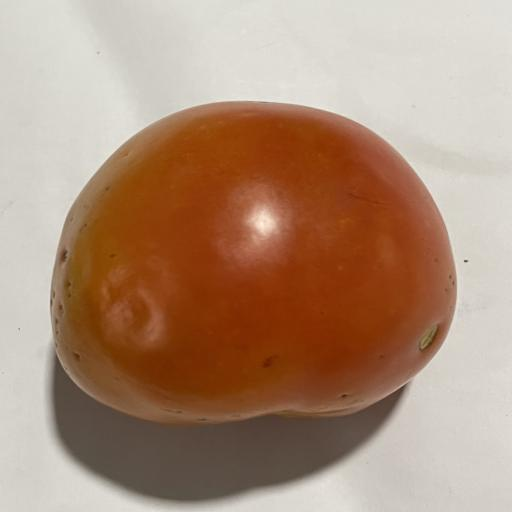ripe: (50, 102, 456, 425)
